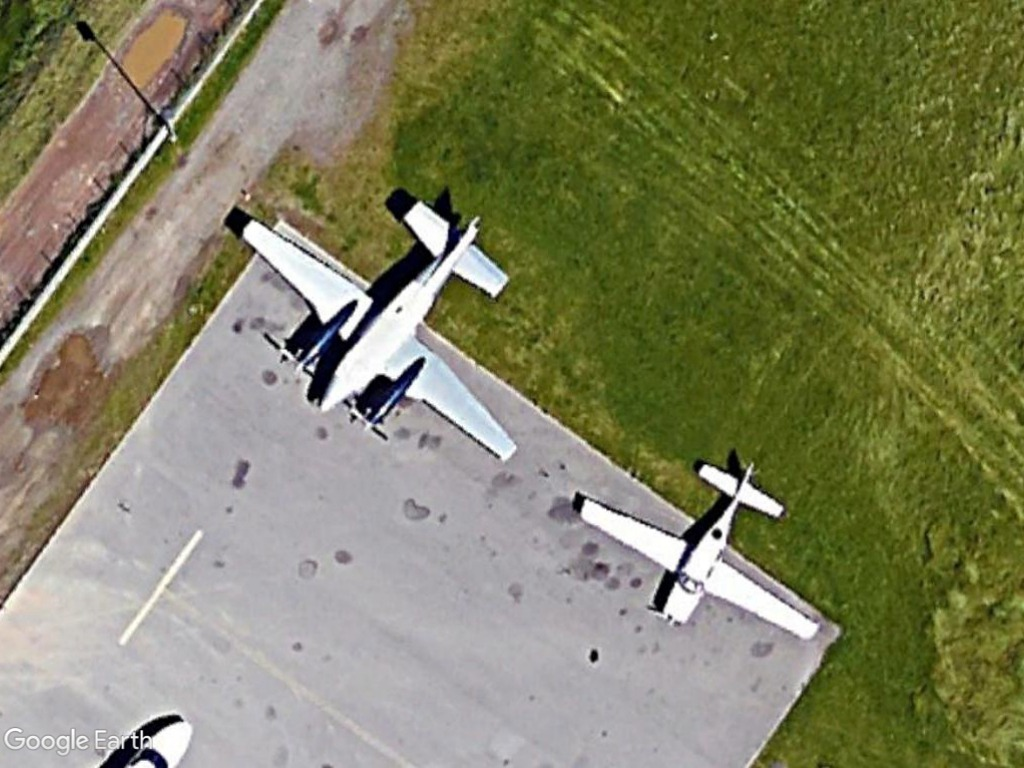propeller: (228, 197, 526, 467)
trainer: (569, 431, 825, 657)
